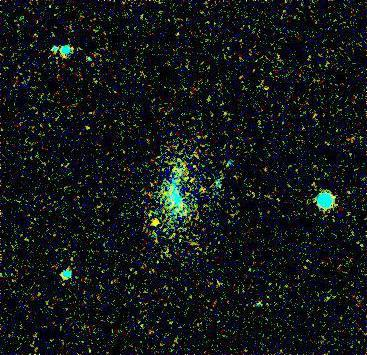star: (142, 207, 172, 237)
